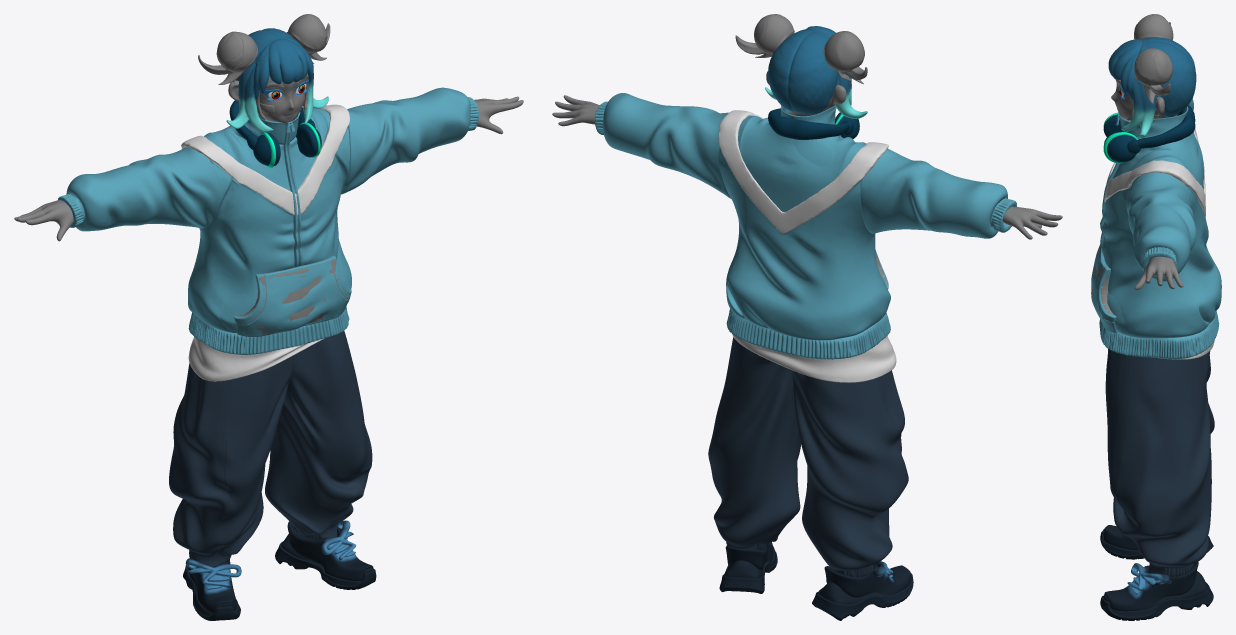
3 views of the same model, side by side, from view 1: azimuth 30°, elevation 25°; view 2: azimuth 150°, elevation 25°; view 3: azimuth 270°, elevation 25° (orthographic). The views are drawn at different scales.
Visible parts, largest first — view 1: Merged_part_15, volosi_retop, ban_retop, naushniki, ruki1, NewSofa7_1_test_, Merged_part_19; view 2: Merged_part_15, volosi_retop, ban_retop, ruki1, naushniki; view 3: Merged_part_15, volosi_retop, ban_retop, naushniki, ruki1, NewSofa7_1_test_, Merged_part_19.
Part boxes in pixels (x1,y1,x2,y2): Merged_part_15: (58, 87, 478, 620); volosi_retop: (226, 28, 328, 132); ban_retop: (198, 14, 330, 84); naushniki: (229, 100, 321, 167); ruki1: (14, 96, 523, 241); NewSofa7_1_test_: (228, 73, 308, 122); Merged_part_19: (236, 258, 349, 335); Merged_part_15: (595, 93, 1016, 620); volosi_retop: (765, 26, 867, 118); ban_retop: (735, 14, 867, 84); ruki1: (552, 95, 1062, 239); naushniki: (768, 108, 859, 139); Merged_part_15: (1091, 98, 1221, 620); volosi_retop: (1108, 37, 1196, 138); ban_retop: (1134, 14, 1173, 103); naushniki: (1103, 105, 1195, 163); ruki1: (1134, 256, 1183, 289); NewSofa7_1_test_: (1111, 80, 1177, 120); Merged_part_19: (1091, 246, 1114, 330).
Bounding box in the file's own units: 5.74 × 6.18 × 1.33.
